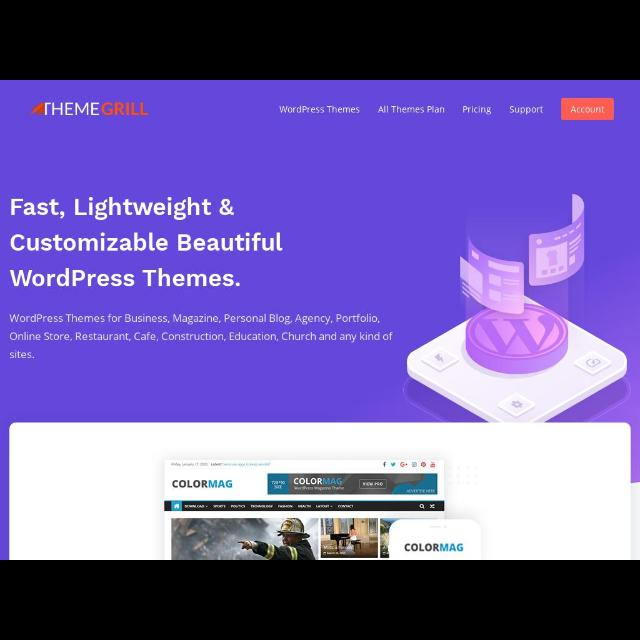backgroundimage: (1, 81, 639, 422)
image: (163, 458, 484, 558), (31, 95, 156, 123)
text: (7, 192, 287, 294), (7, 308, 395, 364), (275, 101, 361, 117), (378, 102, 446, 118), (507, 102, 545, 115), (570, 104, 606, 115), (463, 104, 493, 116)
textbutton: (560, 98, 616, 122)
